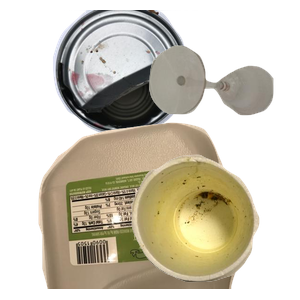glass: (147, 43, 300, 151)
metal: (50, 10, 262, 140)
plastic: (36, 120, 265, 300)
trash: (129, 152, 300, 300)
